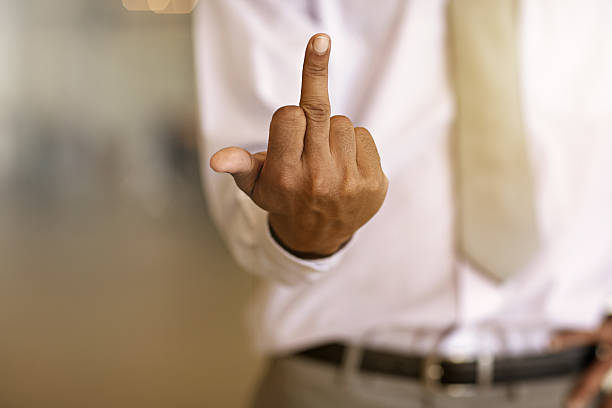insulting_gesture: (210, 35, 390, 257)
